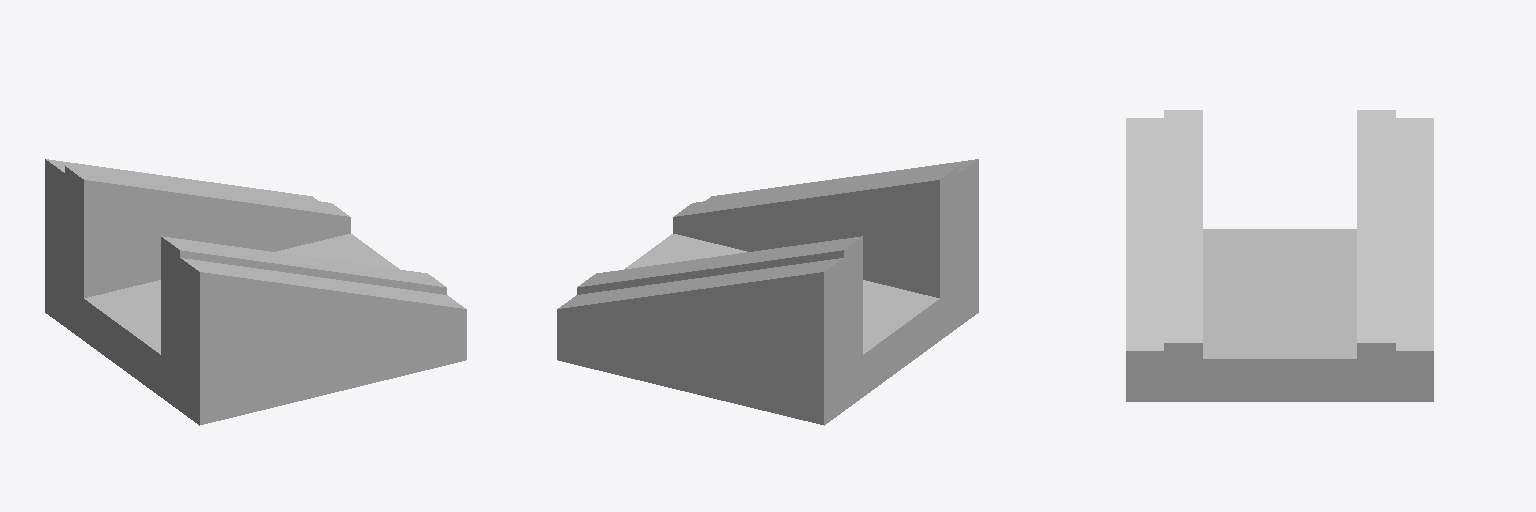
Rendered from roadTile_206.obj.
The picture shows the model from 3 angles: view 1: azimuth 30°, elevation 25°; view 2: azimuth 150°, elevation 25°; view 3: azimuth 270°, elevation 25°; orthographic projection.
Parts seen in each view (by area): view 1: Mesh1 Group1 Model; view 2: Mesh1 Group1 Model; view 3: Mesh1 Group1 Model.
Part boxes in pixels (x1,y1,x2,y2): Mesh1 Group1 Model: (45,159,466,425); Mesh1 Group1 Model: (557,159,978,425); Mesh1 Group1 Model: (1126,110,1433,401).
Size of the model in its own units: 3 by 1.73 by 3.